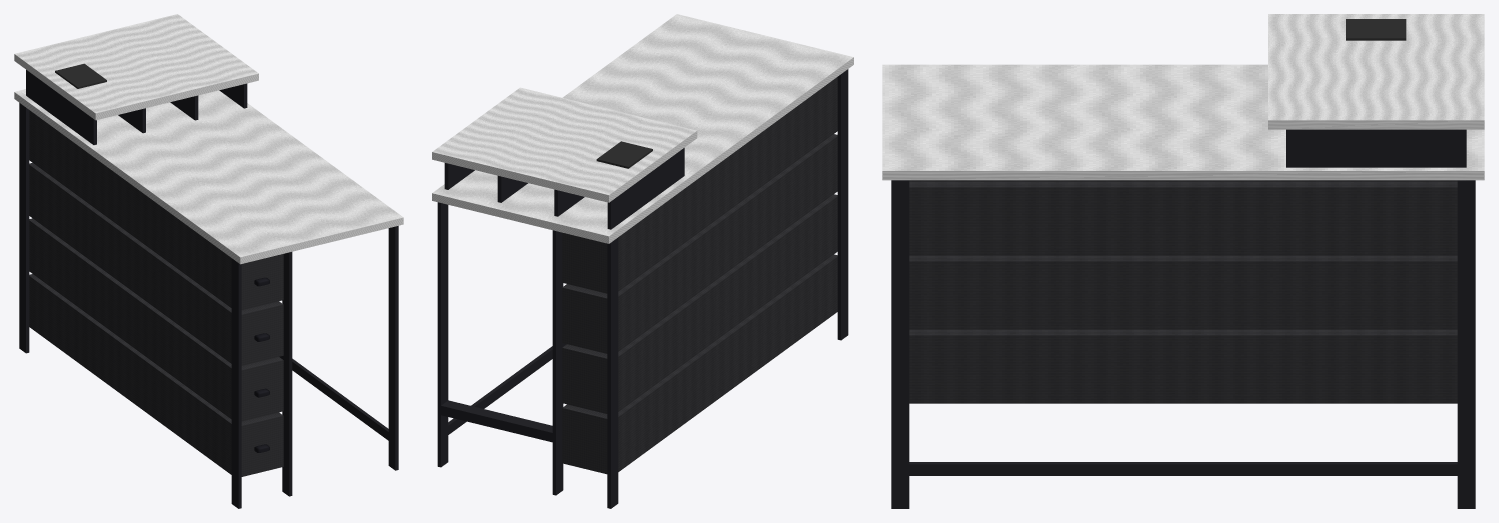
3 renders of one model, left to right at view 1: azimuth 30°, elevation 25°; view 2: azimuth 150°, elevation 25°; view 3: azimuth 270°, elevation 25°, orthographic. The views are drawn at different scales.
Parts seen in each view (by area): view 1: 1 main_tabletop, 2 monitor_stand_shelf, 9 drawer_upper_mid, 10 drawer_lower_mid, 11 drawer_bottom, 8 drawer_top, 16 leg_left_front, 17 leg_left_back, 20 leg_right_front, 18 leg_mid_front, 3 monitor_stand_leg_left, 22 right_side_crossbar (+1 smaller); view 2: 1 main_tabletop, 2 monitor_stand_shelf, 9 drawer_upper_mid, 10 drawer_lower_mid, 11 drawer_bottom, 8 drawer_top, 17 leg_left_back, 16 leg_left_front, 21 leg_right_back, 19 leg_mid_back, 3 monitor_stand_leg_left, 23 back_crossbar (+5 smaller); view 3: 1 main_tabletop, 9 drawer_upper_mid, 10 drawer_lower_mid, 11 drawer_bottom, 2 monitor_stand_shelf, 22 right_side_crossbar, 6 monitor_stand_leg_right, 20 leg_right_front, 21 leg_right_back, 7 power_outlet_strip, 8 drawer_top.
Boxes of the visible parts, x1,y1,x2,y2 form: 1 main_tabletop: (14, 89, 403, 264); 2 monitor_stand_shelf: (14, 14, 258, 120); 9 drawer_upper_mid: (29, 163, 283, 365); 10 drawer_lower_mid: (29, 218, 283, 421); 11 drawer_bottom: (29, 274, 283, 476); 8 drawer_top: (29, 110, 283, 310); 16 leg_left_front: (231, 258, 241, 508); 17 leg_left_back: (19, 103, 29, 353); 20 leg_right_front: (388, 226, 398, 470); 18 leg_mid_front: (282, 252, 292, 496); 3 monitor_stand_leg_left: (26, 70, 96, 144); 22 right_side_crossbar: (279, 356, 389, 441); 1 main_tabletop: (432, 14, 853, 243); 2 monitor_stand_shelf: (432, 87, 697, 202); 9 drawer_upper_mid: (562, 134, 837, 353); 10 drawer_lower_mid: (562, 194, 837, 413); 11 drawer_bottom: (562, 254, 837, 474); 8 drawer_top: (562, 77, 837, 293); 17 leg_left_back: (607, 237, 618, 508); 16 leg_left_front: (837, 69, 848, 340); 21 leg_right_back: (437, 202, 448, 467); 19 leg_mid_back: (552, 230, 563, 495); 3 monitor_stand_leg_left: (607, 148, 684, 229); 23 back_crossbar: (441, 400, 552, 442); 1 main_tabletop: (882, 64, 1484, 180); 9 drawer_upper_mid: (909, 181, 1457, 255); 10 drawer_lower_mid: (909, 255, 1457, 329); 11 drawer_bottom: (909, 329, 1457, 403); 2 monitor_stand_shelf: (1268, 14, 1484, 129); 22 right_side_crossbar: (906, 462, 1460, 475); 6 monitor_stand_leg_right: (1286, 129, 1466, 167); 20 leg_right_front: (891, 180, 909, 508); 21 leg_right_back: (1457, 180, 1475, 508); 7 power_outlet_strip: (1346, 19, 1406, 40); 8 drawer_top: (909, 180, 1457, 181).
Size of the model in its own units: 0.5004 by 0.8611 by 1.2.
Materials: 5 (2 with a texture image).
